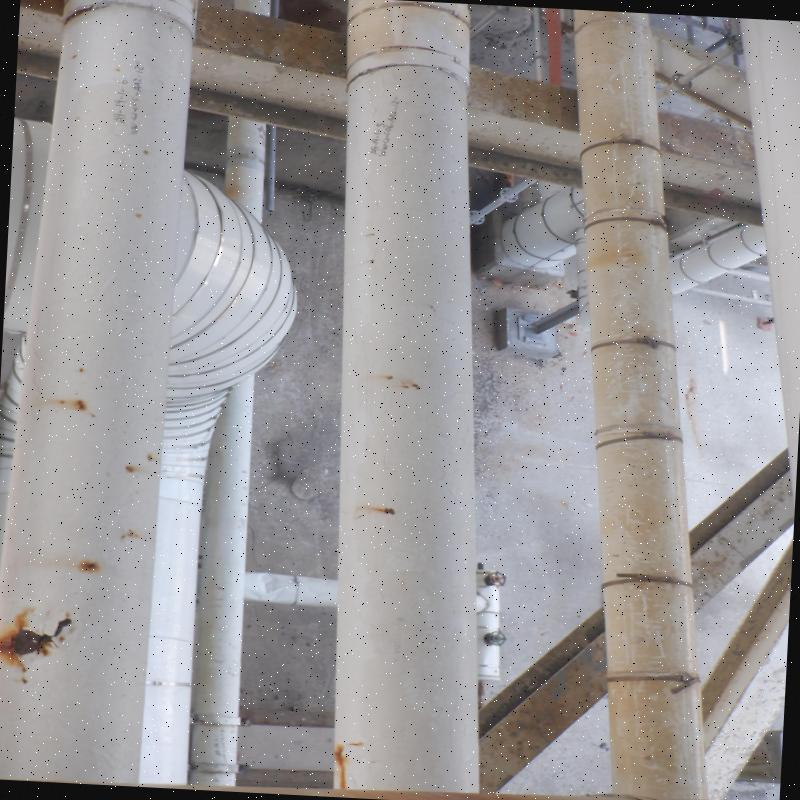corrosion: (4, 608, 79, 669), (70, 392, 92, 417), (80, 552, 102, 576), (124, 462, 138, 477)
